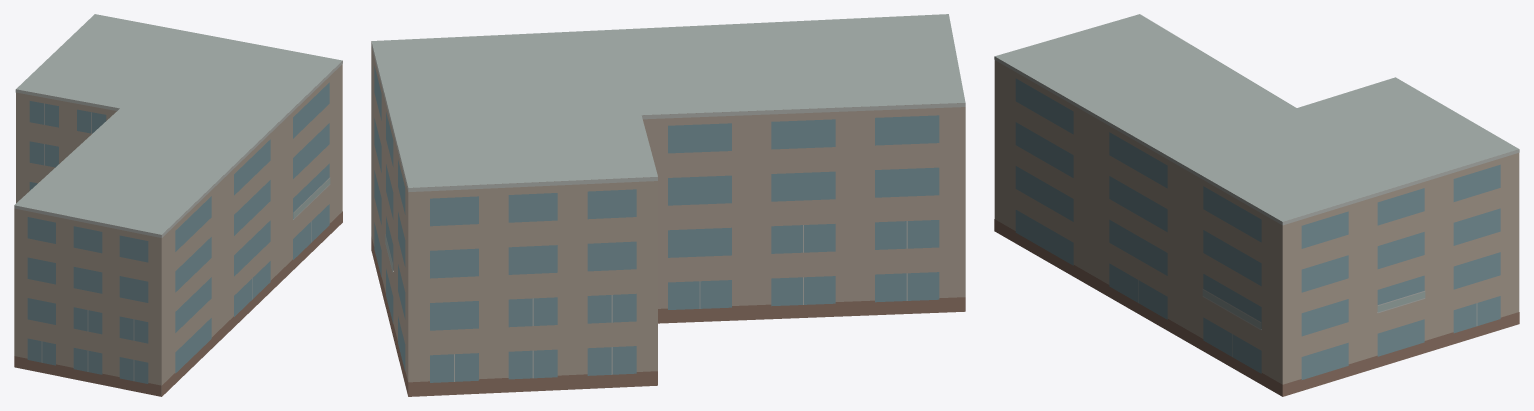
The model's file is survey-upis-32911795.glb.
3 views of the same model, side by side, from view 1: azimuth 30°, elevation 25°; view 2: azimuth 150°, elevation 25°; view 3: azimuth 270°, elevation 25° (orthographic). The views are drawn at different scales.
Visible parts, largest first — view 1: survey-upis-32911795.tmp; view 2: survey-upis-32911795.tmp; view 3: survey-upis-32911795.tmp.
Boxes of the visible parts, left/top/right/bottom form: survey-upis-32911795.tmp: left=14, top=14, right=342, bottom=396; survey-upis-32911795.tmp: left=371, top=14, right=965, bottom=396; survey-upis-32911795.tmp: left=994, top=14, right=1519, bottom=396.
Bounding box in the file's own units: 31.11 × 12.2 × 33.18.
